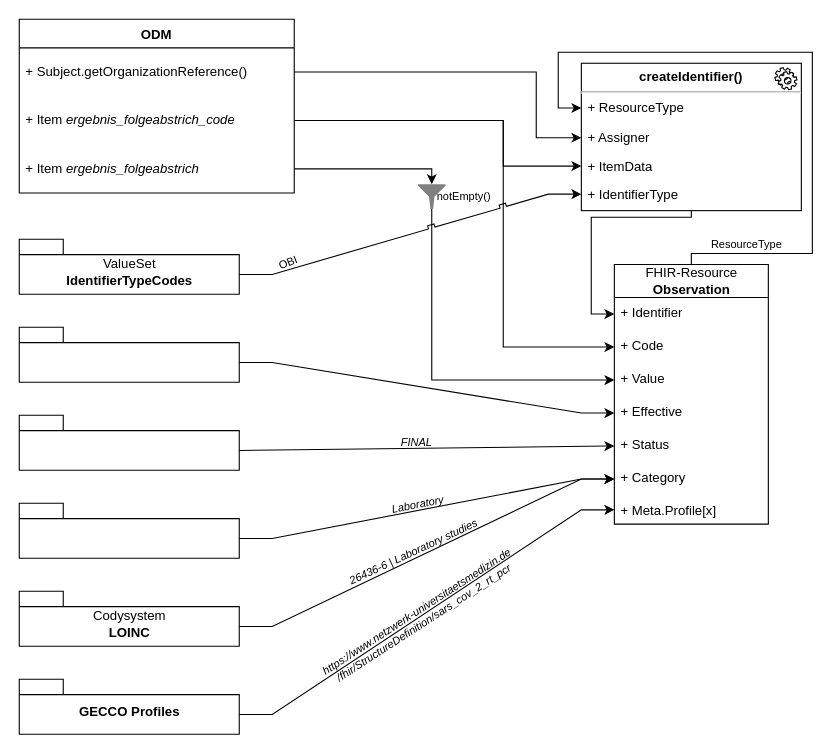
Some shapes in this 840 by 754 pixel diagram are drawn without their labels. The shapes that lost their labels are listed below. From the top down, each one's centre as x and y in pixels, then its label:
At (128,354): "Extension UnknownDateTime".
At (128,442): "ValueSet ObservationStatus".
At (128,530): "ValueSet ObservationCategoryCodes".
